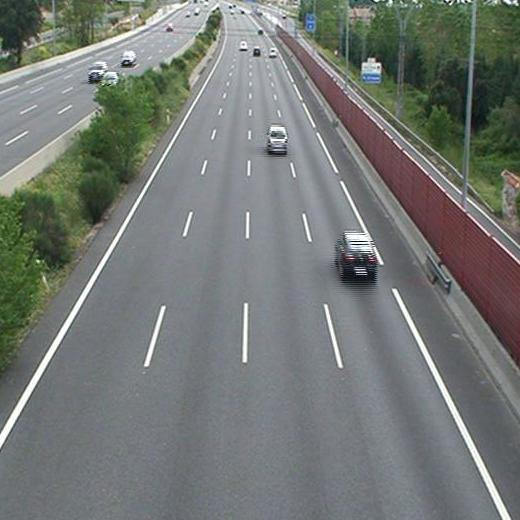car: (336, 233, 376, 275), (267, 126, 288, 153), (239, 41, 249, 50), (269, 49, 278, 57), (253, 48, 261, 56)
